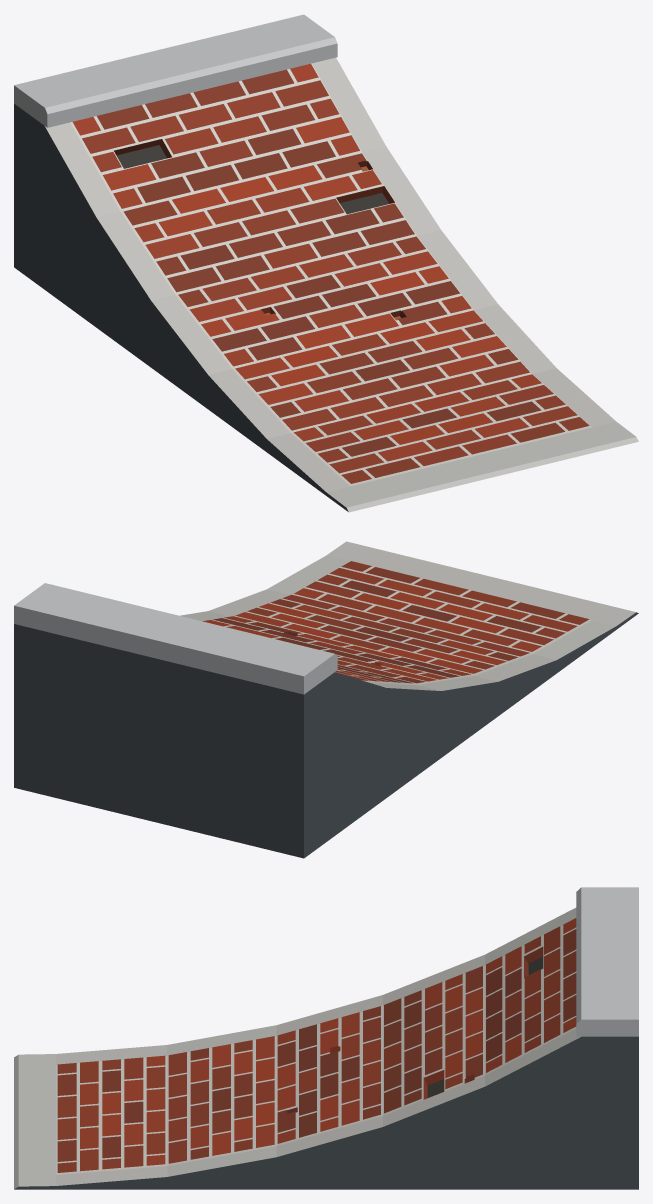
Rendered from red-brick-bank-bb28b3.glb.
3 views of the same model, one above another, from view 1: azimuth 30°, elevation 25°; view 2: azimuth 150°, elevation 25°; view 3: azimuth 270°, elevation 25° (orthographic). The views are drawn at different scales.
Parts seen in each view (by area): view 1: bank; view 2: bank; view 3: bank.
Part boxes in pixels (bbox=[...]): bank: bbox=[14, 14, 638, 512]; bank: bbox=[14, 541, 638, 858]; bank: bbox=[14, 887, 638, 1189].
Size of the model in its own units: 2 by 1.2 by 4.
